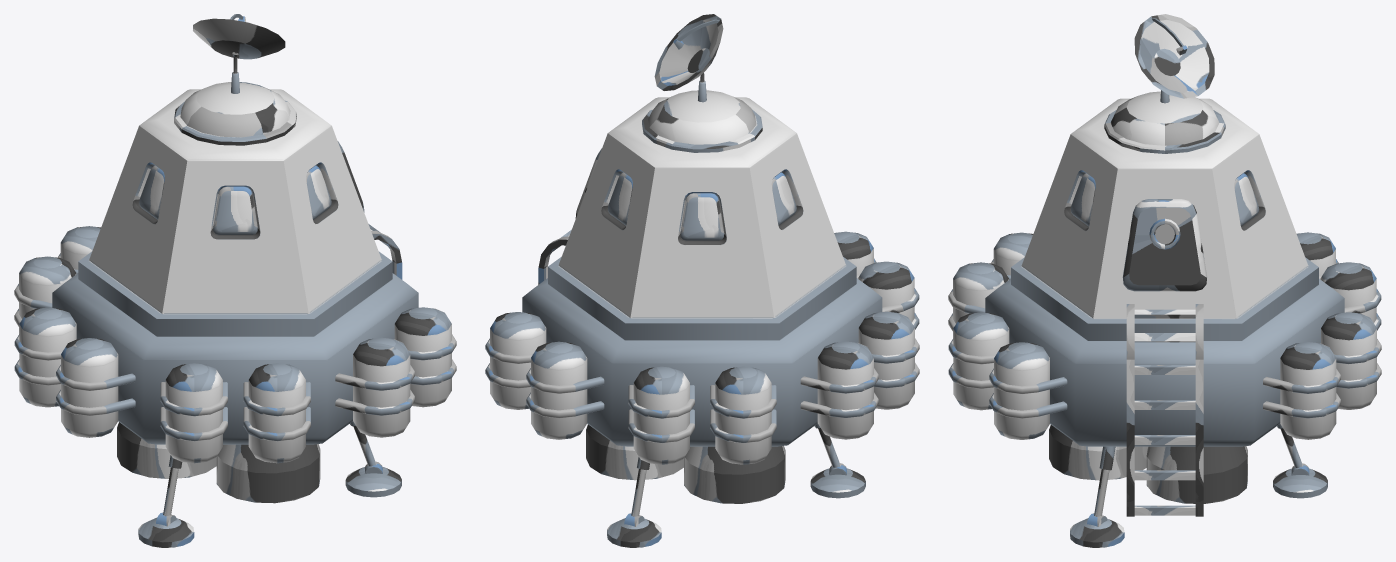
The model's file is SpacePod 1.fbx.
3 renders of one model, left to right at view 1: azimuth 30°, elevation 25°; view 2: azimuth 150°, elevation 25°; view 3: azimuth 270°, elevation 25°, orthographic. The views are drawn at different scales.
Parts seen in each view (by area): view 1: SpacePod; view 2: SpacePod; view 3: SpacePod.
Part boxes in pixels (<box>): SpacePod: <box>14,14,456,547</box>; SpacePod: <box>485,14,919,547</box>; SpacePod: <box>948,14,1381,547</box>.
Size of the model in its own units: 510 by 570 by 674.
